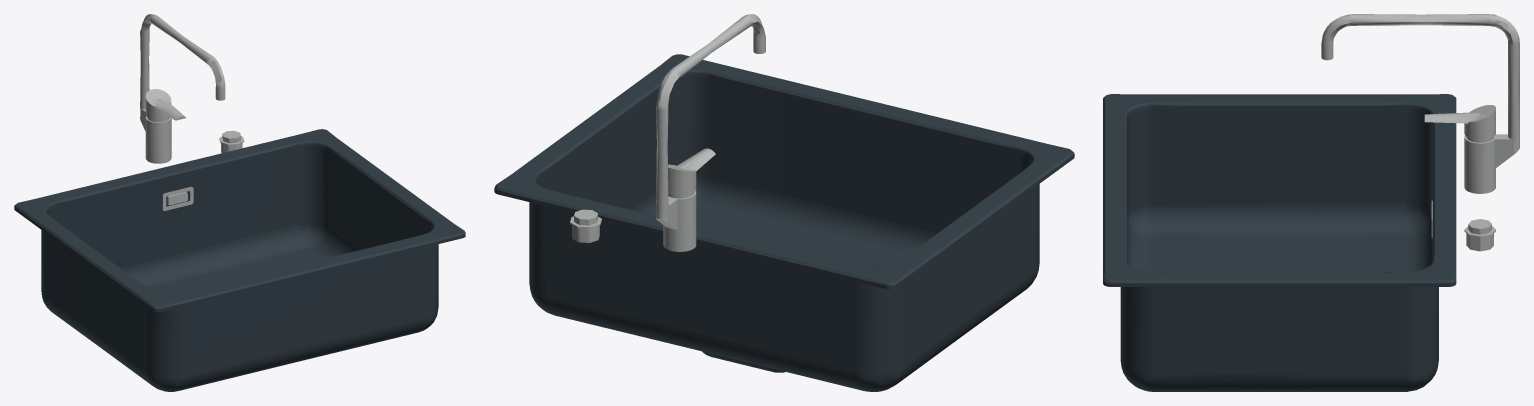
The picture shows the model from 3 angles, left to right: view 1: azimuth 30°, elevation 25°; view 2: azimuth 150°, elevation 25°; view 3: azimuth 270°, elevation 25°; orthographic projection. The views are drawn at different scales.
Visible parts, largest first — view 1: Object_2, Object_3; view 2: Object_2, Object_3; view 3: Object_2, Object_3.
Part boxes in pixels (left/top/right/bottom): Object_2: left=14, top=129, right=465, bottom=391; Object_3: left=140, top=14, right=244, bottom=210; Object_2: left=494, top=54, right=1074, bottom=391; Object_3: left=570, top=14, right=765, bottom=251; Object_2: left=1103, top=94, right=1456, bottom=391; Object_3: left=1321, top=14, right=1519, bottom=251.
Bounding box in the file's own units: 1.84 × 1.52 × 1.72.
